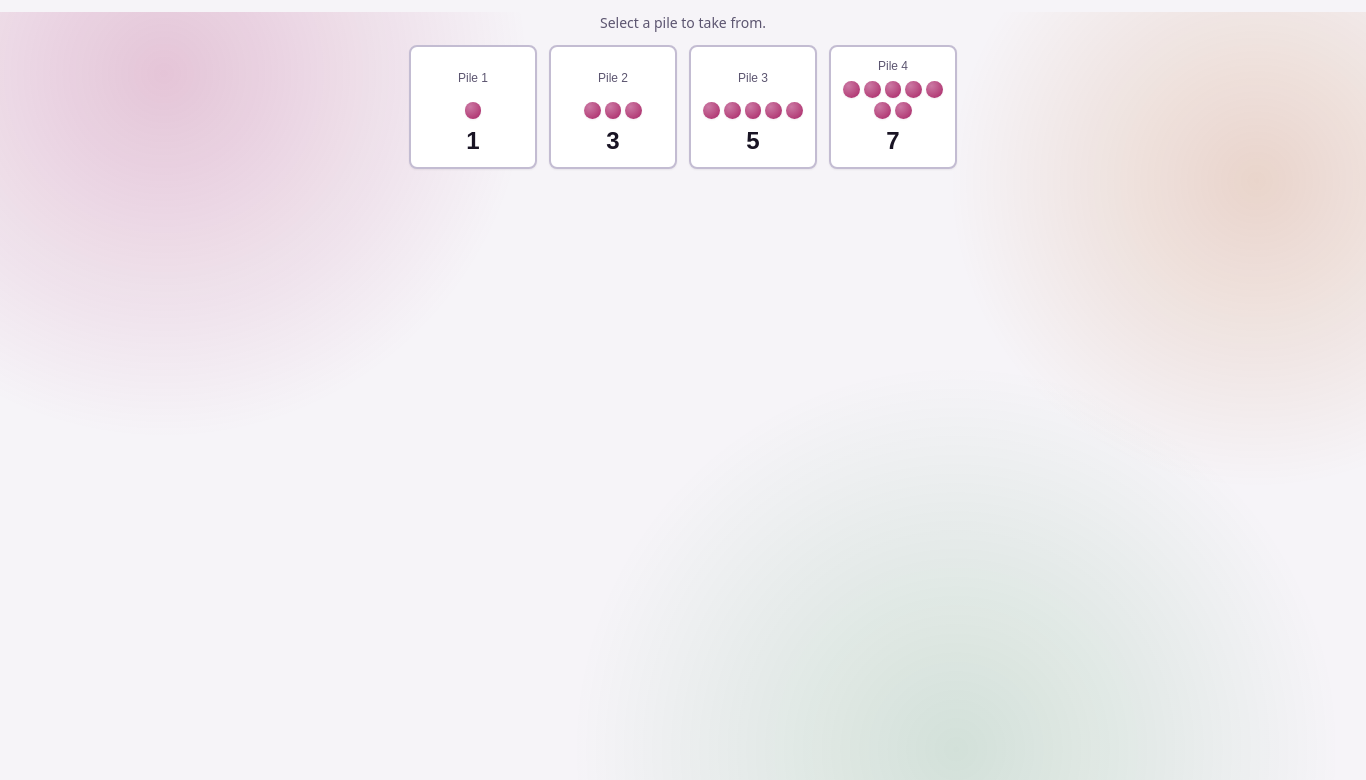
Test: NimBoard › selecting a pile marks it checked and reveals the count stepper
Click the radio button with aria-label "Pile 2, 3 objects remaining" at (613, 107), box [549,45,677,169]
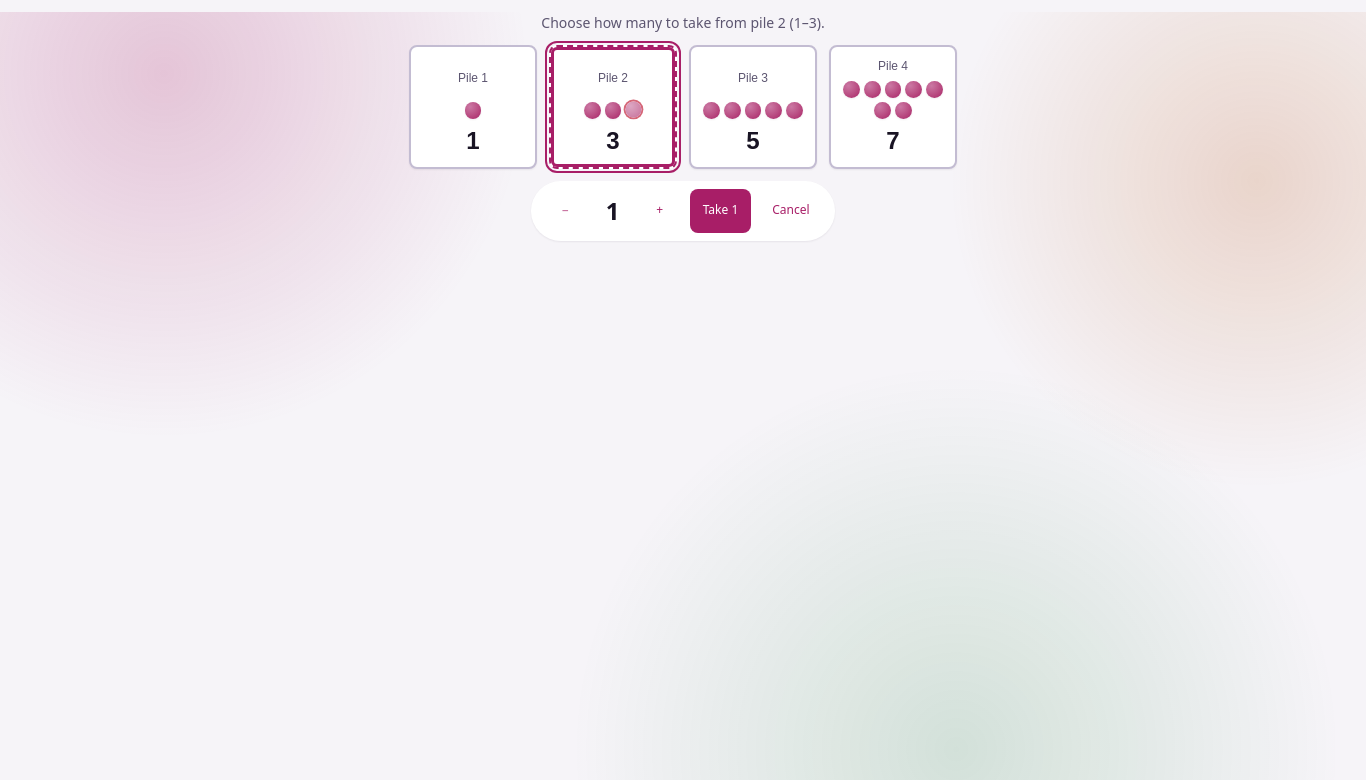
Expected: the text "Choose how many to take from pile 2 (1–3)." is shown, [541,12,825,33]
Expected: the element named "Take from pile 2" is shown, [531,181,835,241]
